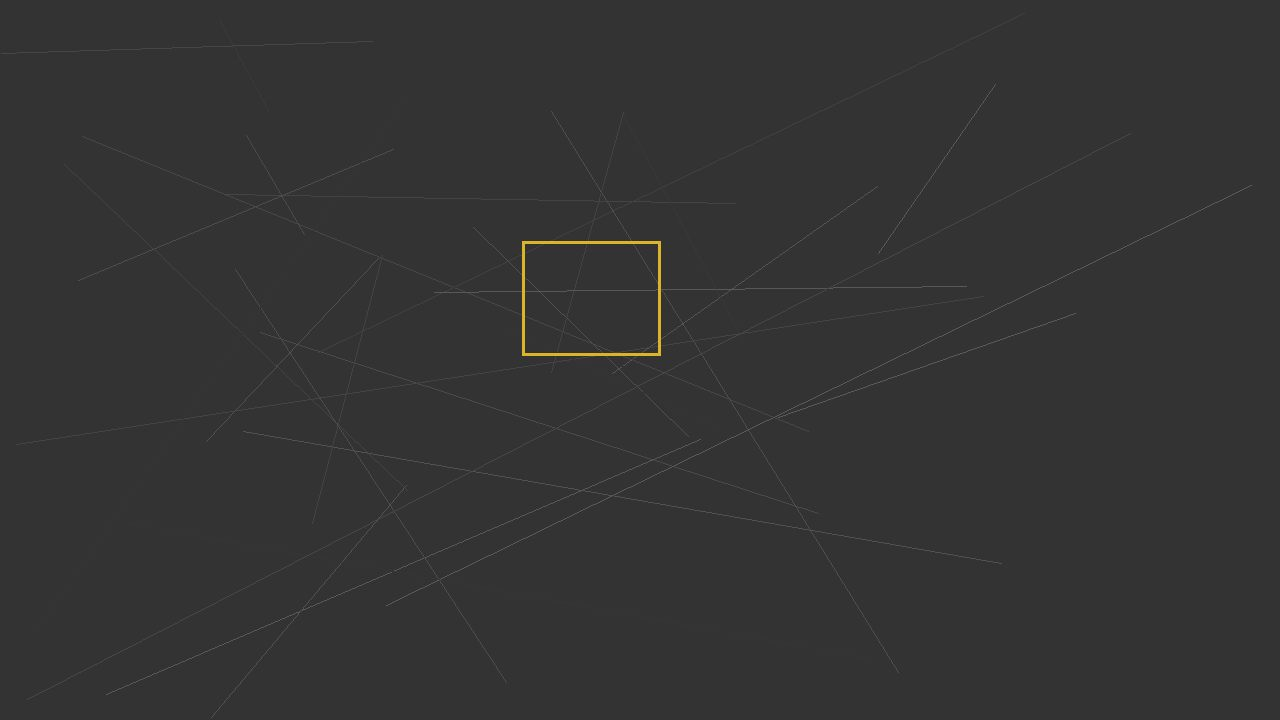D00: (522, 241, 660, 355)
